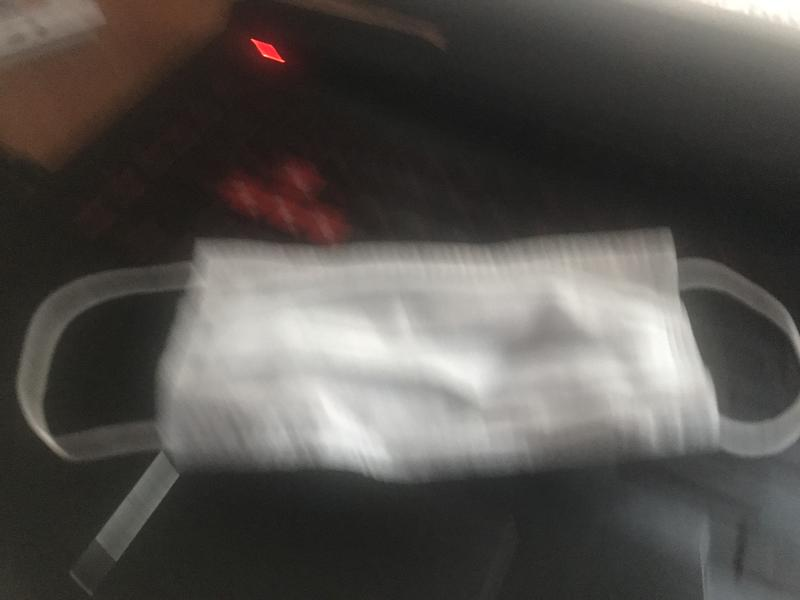medical_mask: (16, 248, 800, 459)
